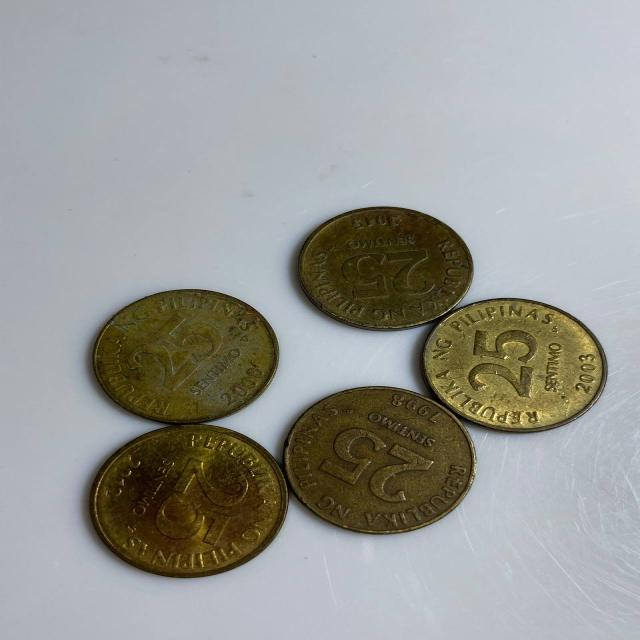25Cent_Old_Front: (160, 456, 252, 547), (323, 427, 428, 505), (132, 314, 226, 396), (340, 252, 448, 305), (464, 324, 538, 398)
